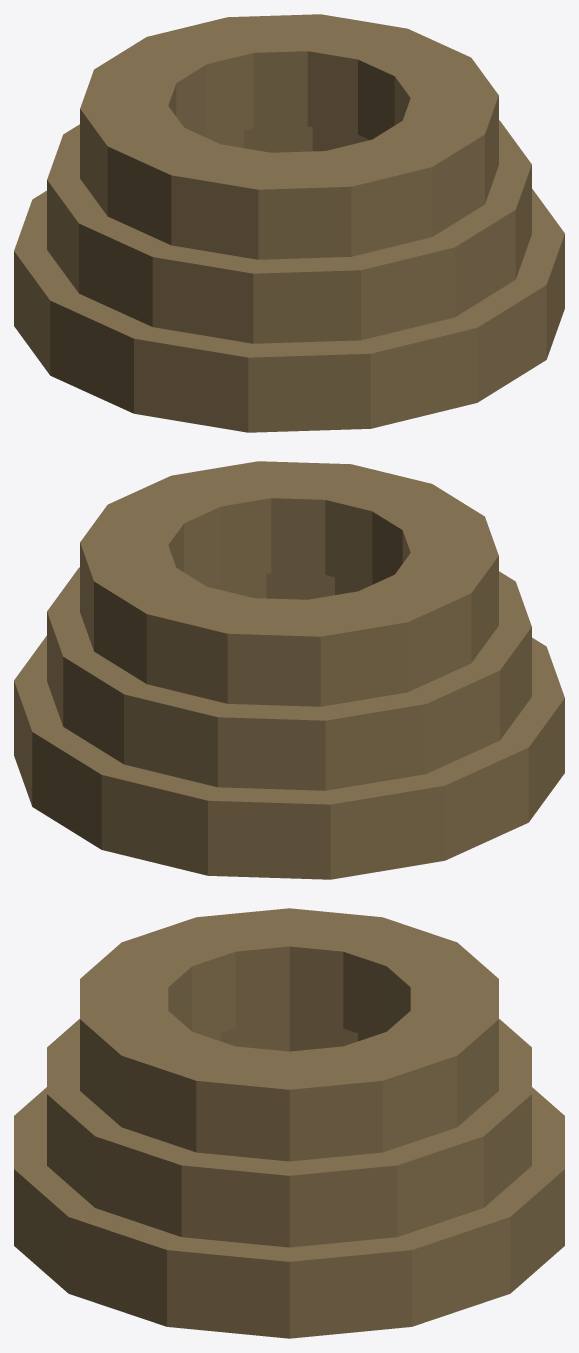
Rendered from rope_coil.fbx.
3 renders of one model, top to bottom at view 1: azimuth 30°, elevation 25°; view 2: azimuth 150°, elevation 25°; view 3: azimuth 270°, elevation 25°, orthographic. The views are drawn at different scales.
Visible parts, largest first — view 1: rope_coil; view 2: rope_coil; view 3: rope_coil.
Boxes of the visible parts, bbox=[...] form: rope_coil: bbox=[14, 14, 564, 432]; rope_coil: bbox=[14, 461, 564, 879]; rope_coil: bbox=[14, 908, 564, 1338].
Size of the model in its own units: 200 by 86 by 195.
